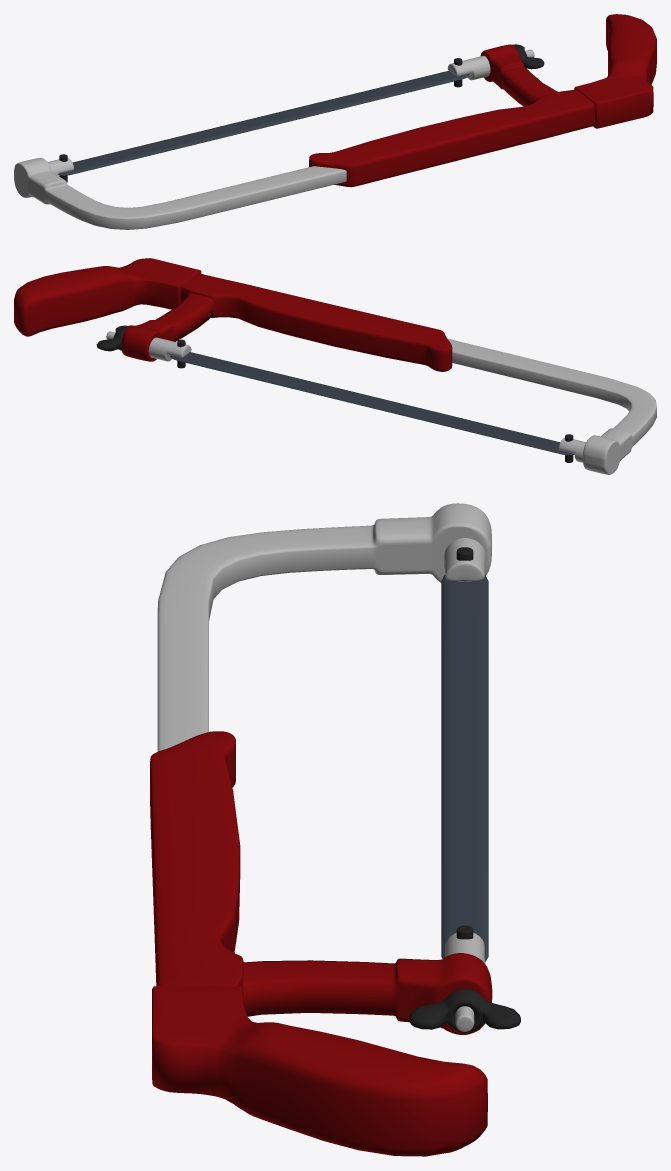
The model's file is Hacksaw.fbx.
The picture shows the model from 3 angles, top to bottom: view 1: azimuth 30°, elevation 25°; view 2: azimuth 150°, elevation 25°; view 3: azimuth 270°, elevation 25°; orthographic projection. The views are drawn at different scales.
Parts seen in each view (by area): view 1: 18503_Hacksaw_v1_NEW; view 2: 18503_Hacksaw_v1_NEW; view 3: 18503_Hacksaw_v1_NEW.
Boxes of the visible parts, left/top/right/bottom form: 18503_Hacksaw_v1_NEW: left=14, top=14, right=656, bottom=229; 18503_Hacksaw_v1_NEW: left=14, top=258, right=656, bottom=474; 18503_Hacksaw_v1_NEW: left=150, top=503, right=520, bottom=1156.
Bounding box in the file's own units: 141 × 8.98 × 37.49.
